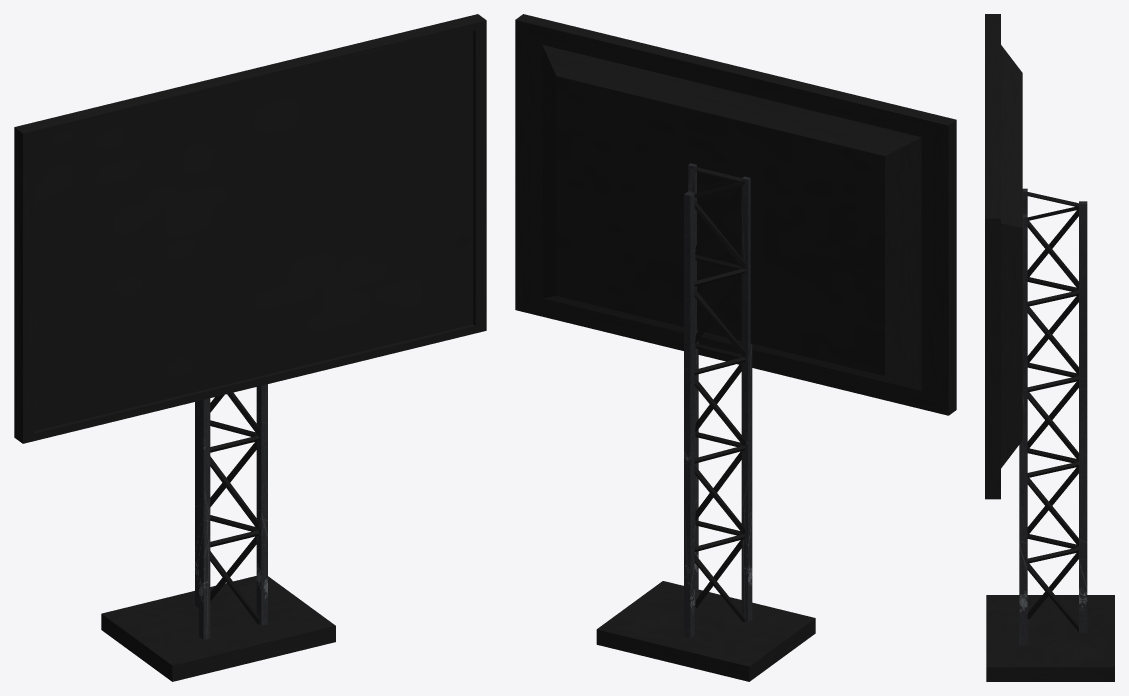
3 views of the same model, side by side, from view 1: azimuth 30°, elevation 25°; view 2: azimuth 150°, elevation 25°; view 3: azimuth 270°, elevation 25° (orthographic). The views are drawn at different scales.
Visible parts, largest first — view 1: SM_TV; view 2: SM_TV; view 3: SM_TV.
Part boxes in pixels (<box>): SM_TV: <box>14,14,486,681</box>; SM_TV: <box>515,14,956,681</box>; SM_TV: <box>985,14,1114,681</box>.
Size of the model in its own units: 113 by 136 by 30.22.
